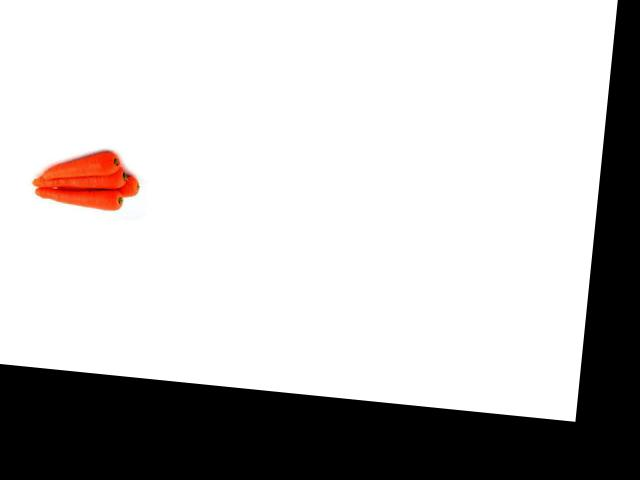carrot: (39, 145, 123, 178)
